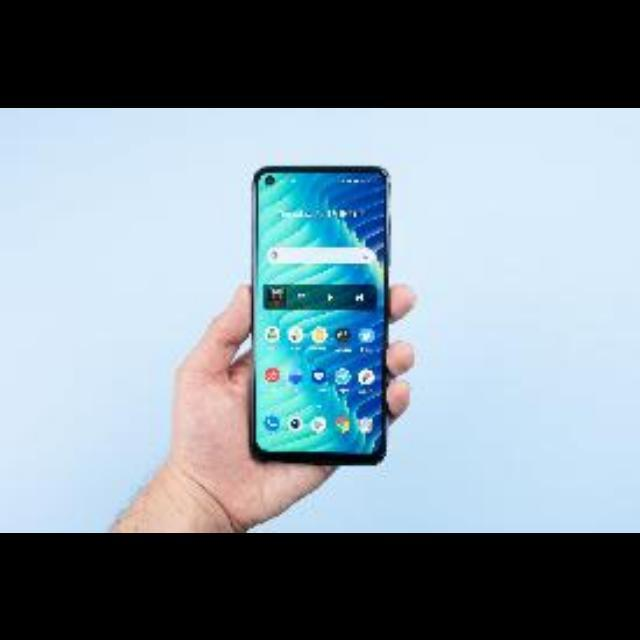Phone: (250, 162, 388, 466)
